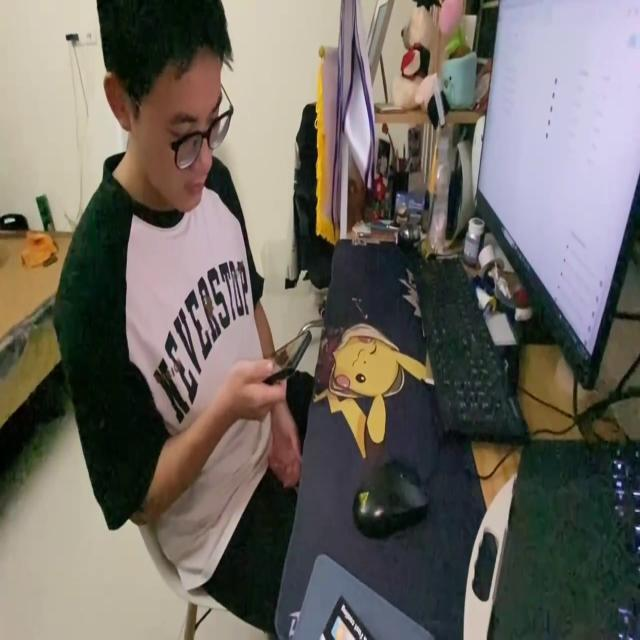laptop: (474, 11, 640, 393)
phone: (250, 318, 312, 384)
student: (47, 0, 311, 620)
